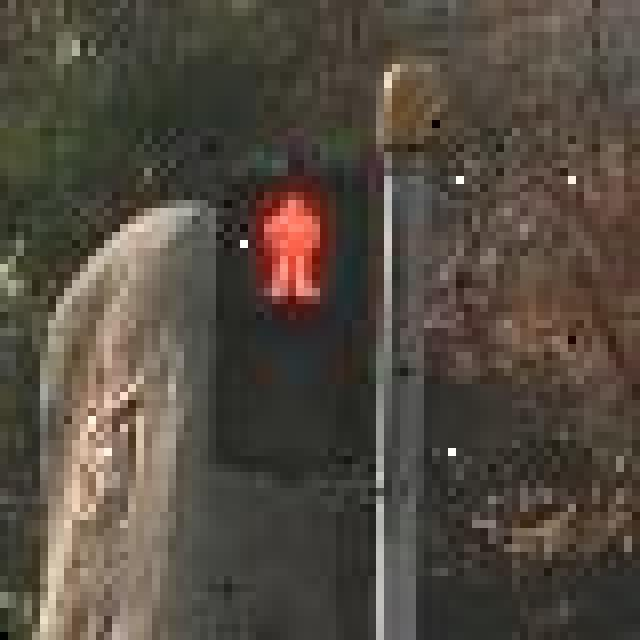redlight: (230, 144, 388, 490)
